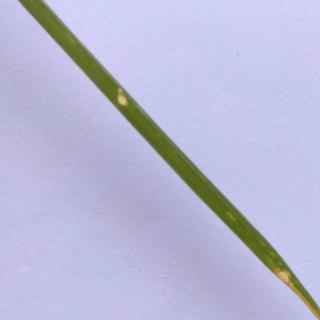Blast: (262, 247, 317, 318), (105, 74, 152, 127)
